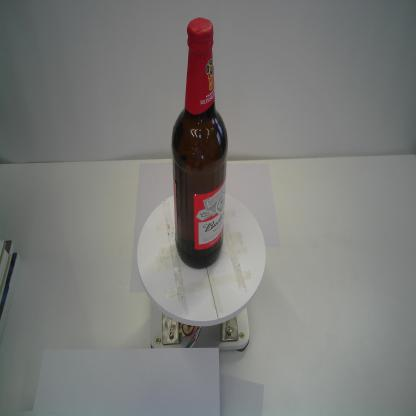Alcohol: (170, 16, 231, 271)
